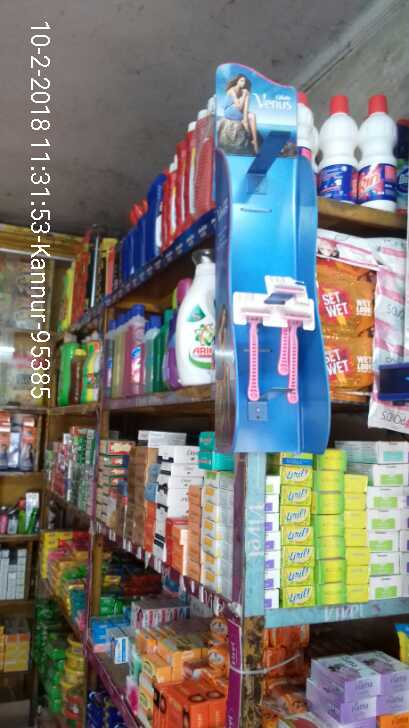reject: (183, 205, 252, 292)
